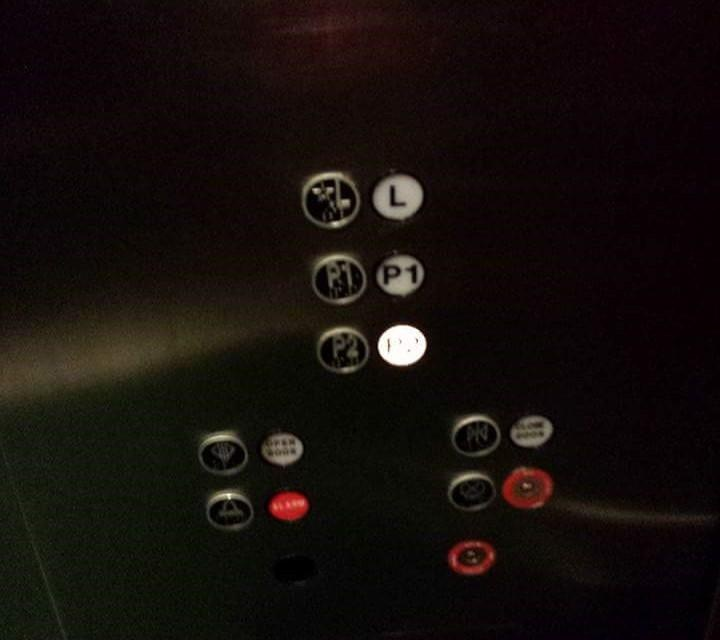L: (372, 170, 425, 222)
P1: (310, 254, 366, 306), (375, 251, 427, 298)
P2: (315, 326, 369, 375)
alarm: (205, 489, 252, 536)
blur: (376, 321, 428, 368)
close: (449, 412, 503, 459)
indicator: (502, 466, 554, 510), (446, 538, 497, 577)
open: (196, 432, 249, 478)
sL: (300, 167, 360, 231)
stop: (444, 471, 496, 513)
text_alarm: (266, 488, 310, 525)
text_blur: (508, 414, 556, 451), (260, 429, 304, 469)
